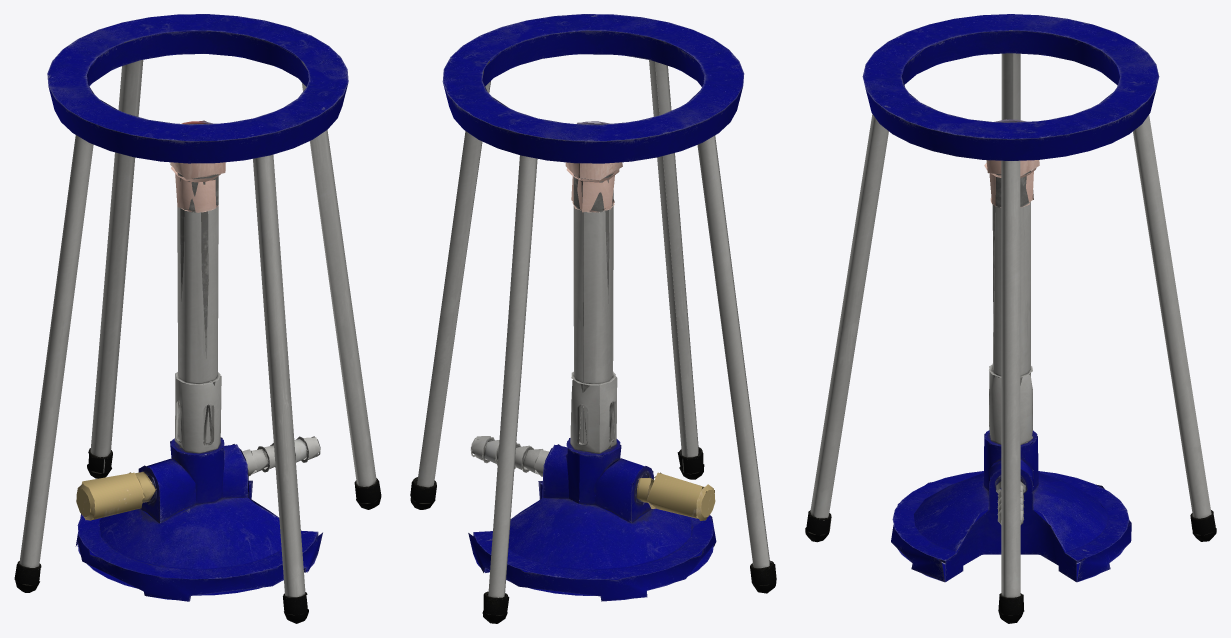
The model's file is bunsen_burner.fbx.
3 renders of one model, left to right at view 1: azimuth 30°, elevation 25°; view 2: azimuth 150°, elevation 25°; view 3: azimuth 270°, elevation 25°, orthographic.
Parts seen in each view (by area): view 1: burner_stand, bunsen_burner; view 2: burner_stand, bunsen_burner; view 3: burner_stand, bunsen_burner.
Part boxes in pixels (x1,y1,x2,y2): burner_stand: (14, 14, 381, 623); bunsen_burner: (75, 120, 322, 601); burner_stand: (410, 14, 776, 623); bunsen_burner: (468, 121, 716, 601); burner_stand: (805, 14, 1216, 623); bunsen_burner: (891, 119, 1131, 582).
Size of the model in its own units: 13.91 by 17.31 by 13.91.
1 material, 1 textured.
